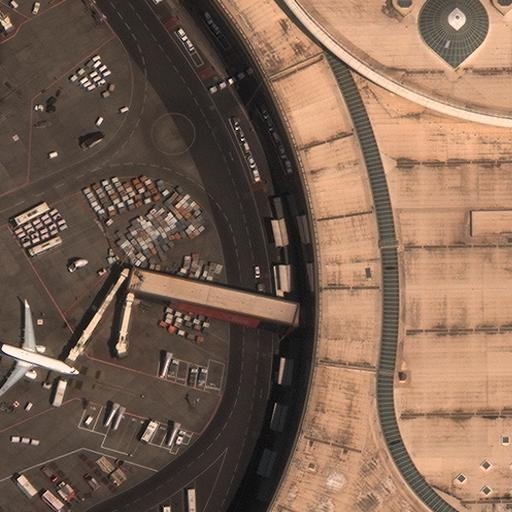Medium Civil Transport: (0, 305, 78, 397)
